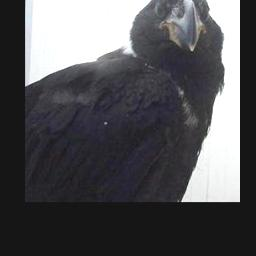Crow: (26, 0, 228, 201)
